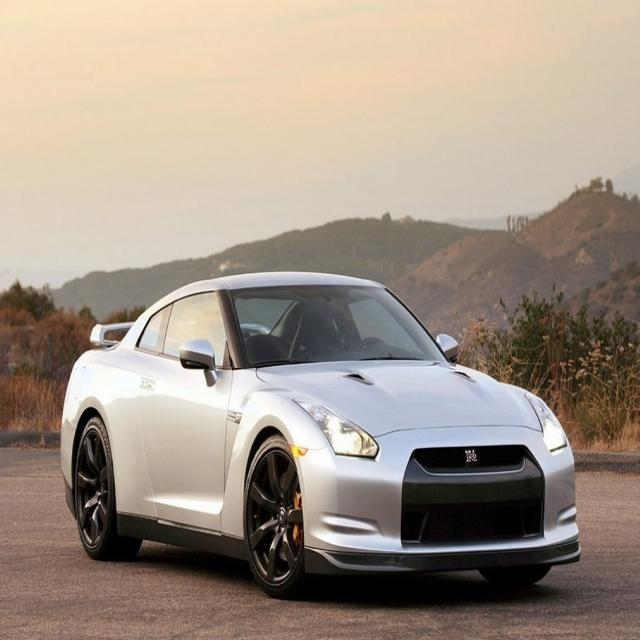front_bumper: (291, 423, 584, 580)
front_glass: (230, 282, 446, 366)
front_left_side_light: (522, 386, 569, 455)
front_left_side_mirror: (436, 332, 462, 363)
front_right_side_door: (134, 275, 236, 540)
front_right_side_light: (289, 394, 381, 461)
front_right_side_mirror: (178, 338, 218, 388)
wheel: (243, 435, 317, 597), (72, 416, 142, 559)
